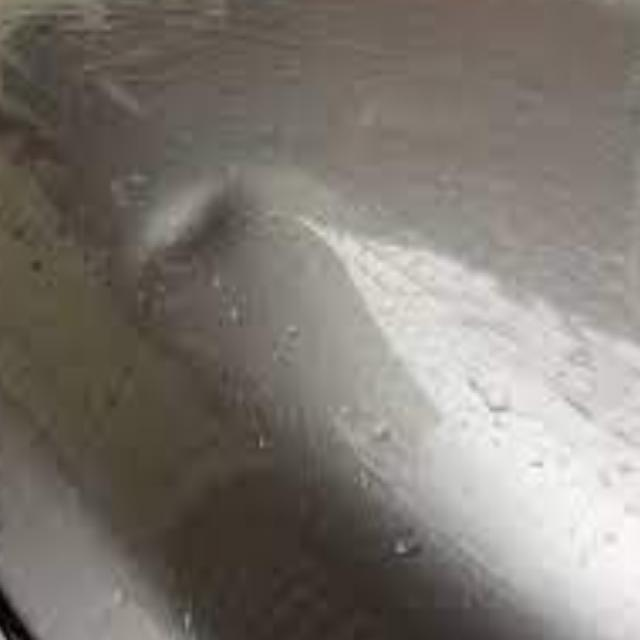dents: (151, 176, 245, 269)
